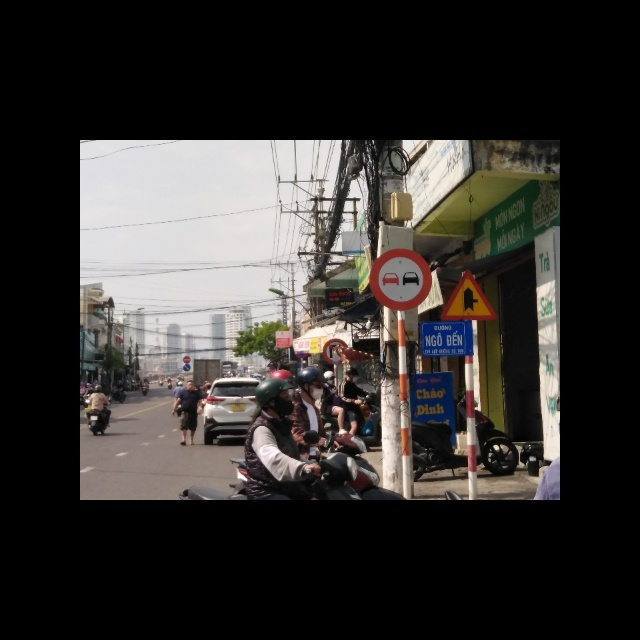Cấm vượt: (369, 249, 432, 313)
Giao nhau với đường không ưu tiên: (440, 268, 499, 321)
